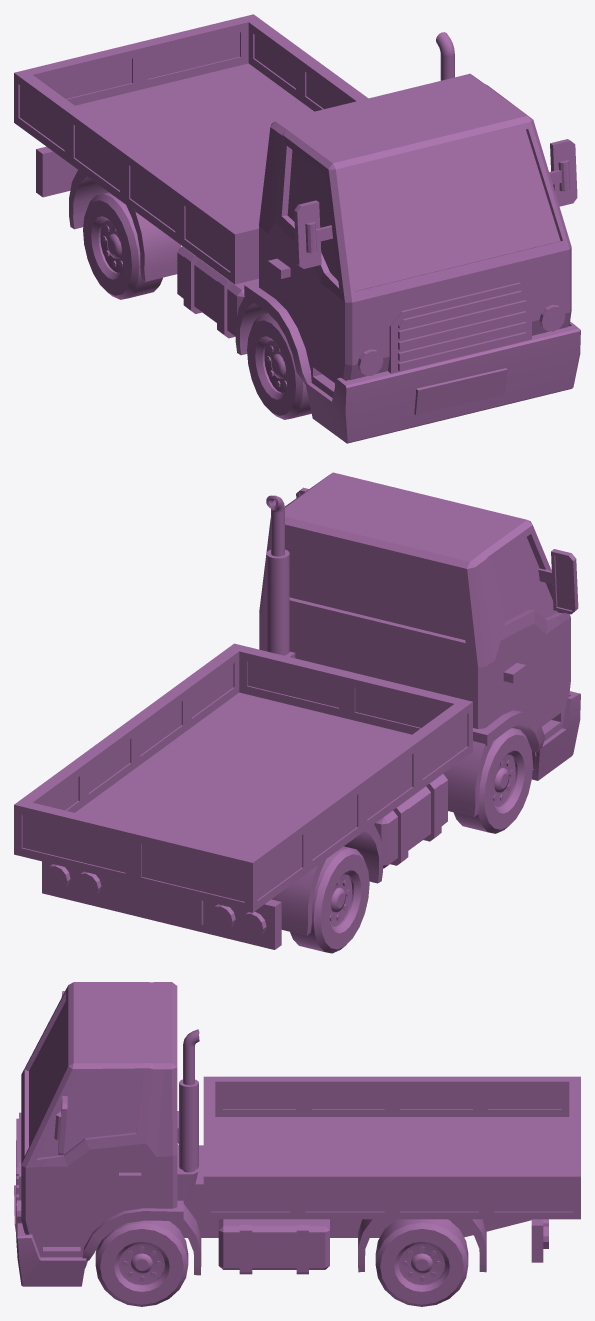
File: Truck_V2.fbx
3 renders of one model, top to bottom at view 1: azimuth 30°, elevation 25°; view 2: azimuth 150°, elevation 25°; view 3: azimuth 270°, elevation 25°, orthographic. The views are drawn at different scales.
Visible parts, largest first — view 1: Truck_V2, Wheels_Back, Wheels_Front; view 2: Truck_V2, Wheels_Back, Wheels_Front; view 3: Truck_V2, Wheels_Back, Wheels_Front.
Boxes of the visible parts, <box> form: Truck_V2: <box>14,14,580,443</box>; Wheels_Back: <box>83,192,162,299</box>; Wheels_Front: <box>247,313,311,419</box>; Truck_V2: <box>14,472,580,949</box>; Wheels_Back: <box>290,846,369,953</box>; Wheels_Front: <box>453,727,532,833</box>; Truck_V2: <box>14,982,580,1286</box>; Wheels_Back: <box>375,1219,468,1306</box>; Wheels_Front: <box>95,1144,188,1306</box>.
Size of the model in its own units: 197 by 211 by 408.
